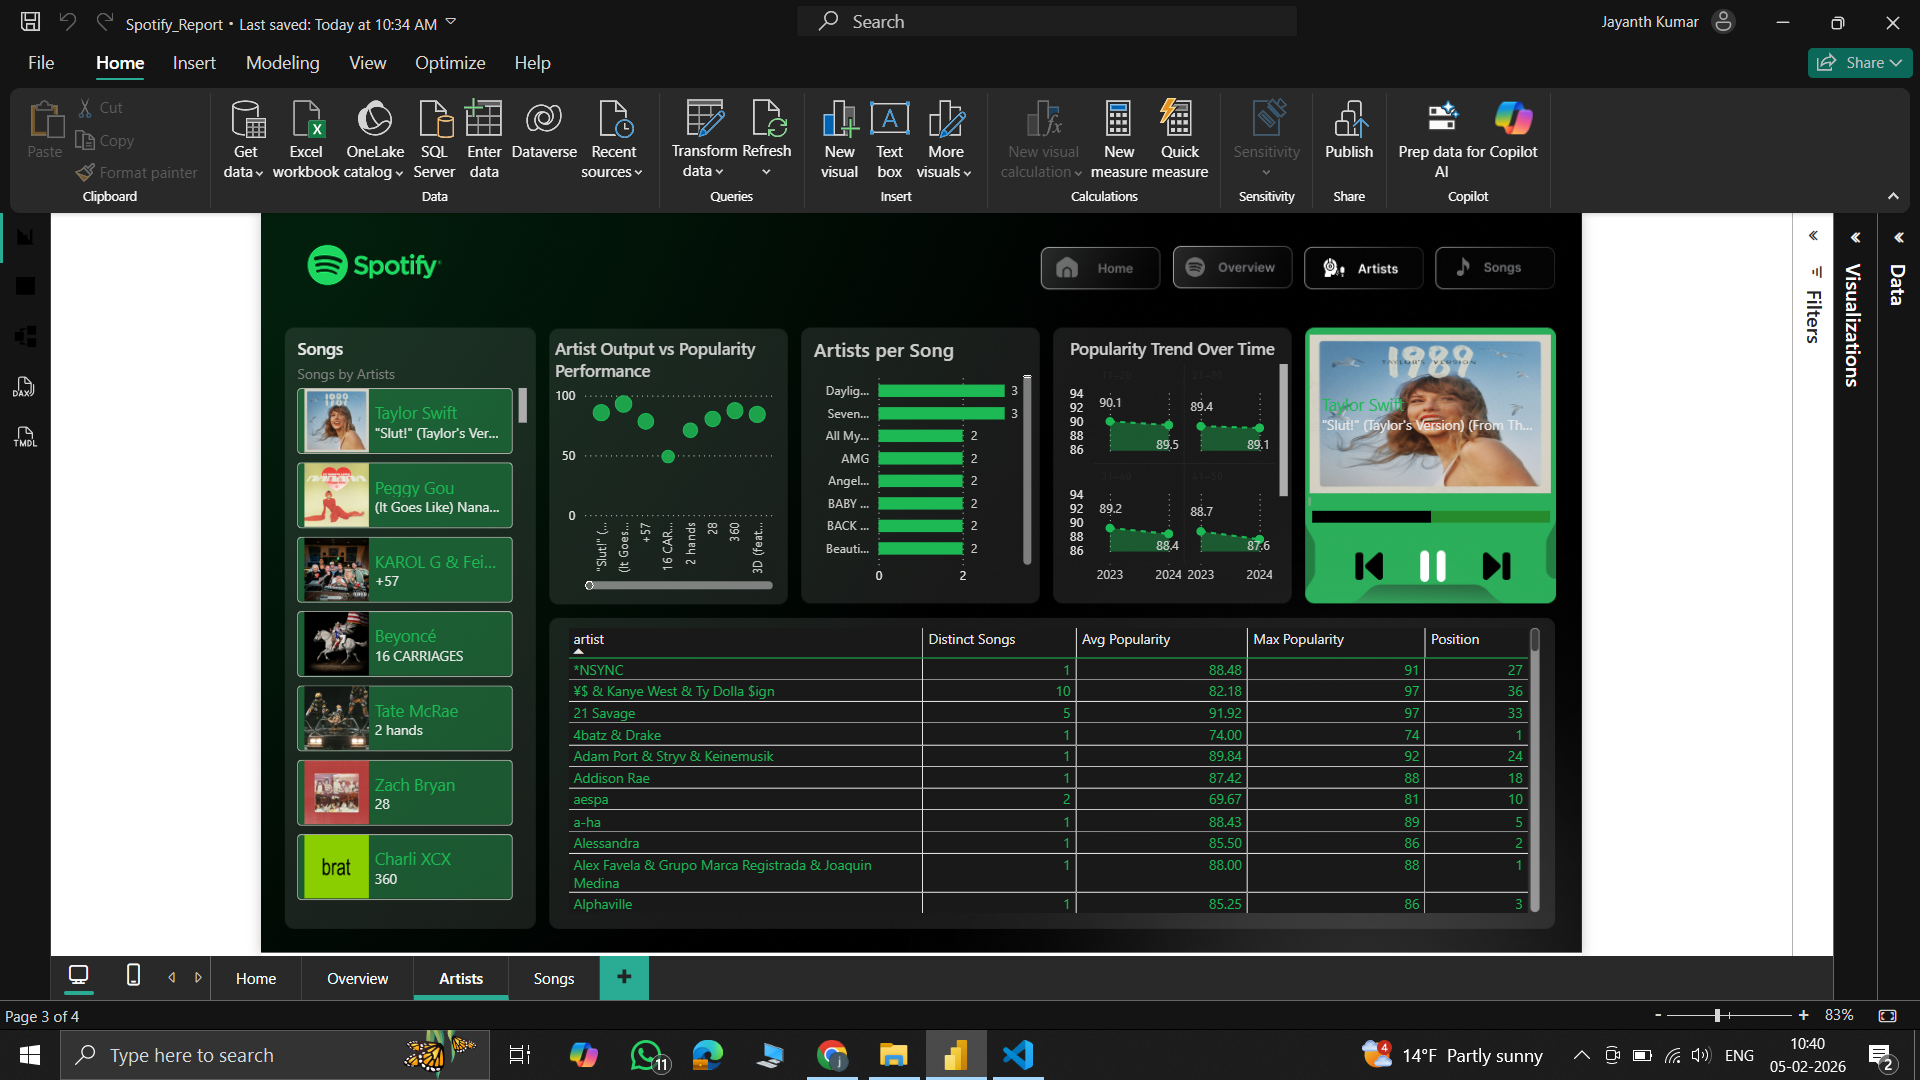

The page's visual inventory and layout, read from the dashboard file:
{"tool":"powerbi","page":{"name":"Artists","canvas":[1280,720],"ordinal":2},"visuals":[{"type":"actionButton","box":[760.3,33,120,42.5],"z":0},{"type":"actionButton","box":[880.3,33,120,42.5],"z":1000},{"type":"actionButton","box":[1012.8,33,120,42.5],"z":2000},{"type":"actionButton","box":[1142.8,33,120,42.5],"z":3000},{"type":"advancedSlicerVisual","title":"Songs","fields":{"Values":["Top-50-World.song"]},"box":[1010,111.7,246.5,179.4],"z":4000},{"type":"hundredPercentStackedBarChart","fields":{"Y":["_Measures.Avg Popularity","Avg(Top-50-World.popularity)"]},"box":[1013.6,260.6,240.4,61],"z":5000},{"type":"image","box":[1176.2,326.3,40,30],"z":6000},{"type":"image","box":[1052.9,326.3,40,30],"z":7000},{"type":"image","box":[1114.6,326.3,40,30],"z":8000},{"type":"shape","box":[1001.2,102.5,266.2,280],"z":9000},{"type":"advancedSlicerVisual","title":"Songs","fields":{"Values":["Top-50-World.song"]},"box":[30,120,232.5,553.8],"z":11000},{"type":"scatterChart","title":"Artist Output vs Popularity Performance","fields":{"X":["Top-50-World.song"],"Y":["_Measures.Avg Popularity"],"Size":["_Measures.Max Popularity"]},"box":[280,120,221.2,250],"z":11001},{"type":"clusteredBarChart","title":"Artists per Song","fields":{"Category":["Top-50-World.song"],"Y":["_Measures.Distinct Artists"]},"box":[530,120,221.2,250],"z":11002},{"type":"tableEx","fields":{"Values":["Top-50-World.artist","_Measures.Distinct Songs","_Measures.Avg Popularity","_Measures.Max Popularity","Count(Top-50-World.position)"]},"box":[291.2,397.5,951.2,285],"z":11003},{"type":"lineChart","title":"Popularity Trend Over Time","fields":{"Category":["Top-50-World.date.Variation.Date Hierarchy.Year","Top-50-World.date.Variation.Date Hierarchy.Quarter","Top-50-World.date.Variation.Date Hierarchy.Month","Top-50-World.date.Variation.Date Hierarchy.Day"],"Y":["_Measures.Avg Popularity"],"Rows":["Top-50-World.Position Range"]},"box":[778.8,120,221.2,250],"z":11004}]}

Visuals, with their boxes on the page's 1280x720 design canvas (x1, y1, x2, y2). These are canvas units, not pixel positions in the 1920x1080 screenshot, which may show the page scaled, cropped or inside an application window:
actionButton: crop(760, 33, 880, 76)
actionButton: crop(880, 33, 1000, 76)
actionButton: crop(1013, 33, 1133, 76)
actionButton: crop(1143, 33, 1263, 76)
"Songs" advancedSlicerVisual: crop(1010, 112, 1256, 291)
hundredPercentStackedBarChart - _Measures.Avg Popularity x Avg(Top-50-World.popularity): crop(1014, 261, 1254, 322)
image: crop(1176, 326, 1216, 356)
image: crop(1053, 326, 1093, 356)
image: crop(1115, 326, 1155, 356)
shape: crop(1001, 102, 1267, 382)
"Songs" advancedSlicerVisual: crop(30, 120, 262, 674)
"Artist Output vs Popularity Performance" scatterChart: crop(280, 120, 501, 370)
"Artists per Song" clusteredBarChart: crop(530, 120, 751, 370)
tableEx - Top-50-World.artist x _Measures.Distinct Songs: crop(291, 398, 1242, 682)
"Popularity Trend Over Time" lineChart: crop(779, 120, 1000, 370)
